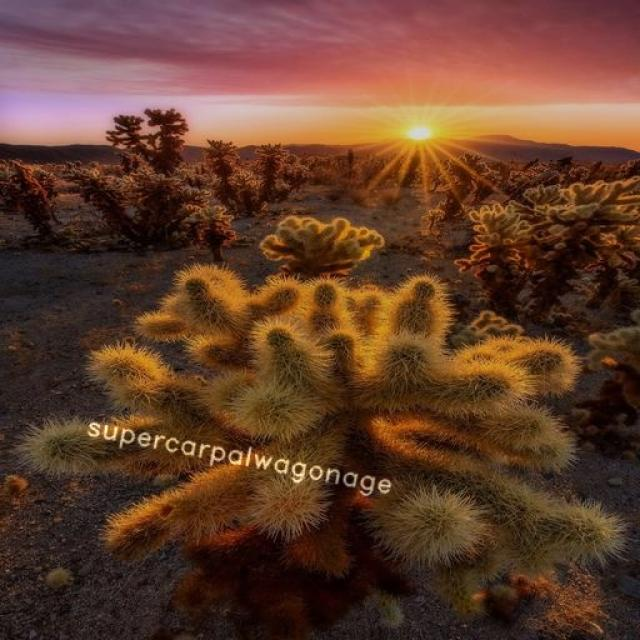watermark: (78, 413, 410, 498)
